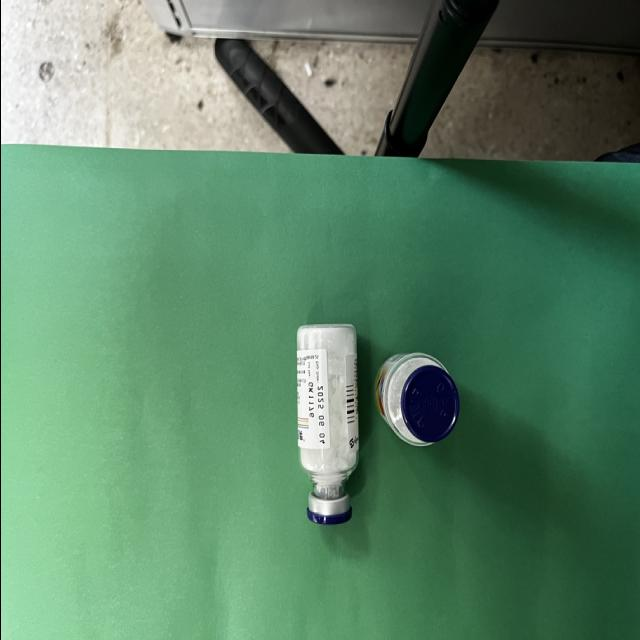Vials: (296, 323, 358, 525), (375, 353, 458, 446)
